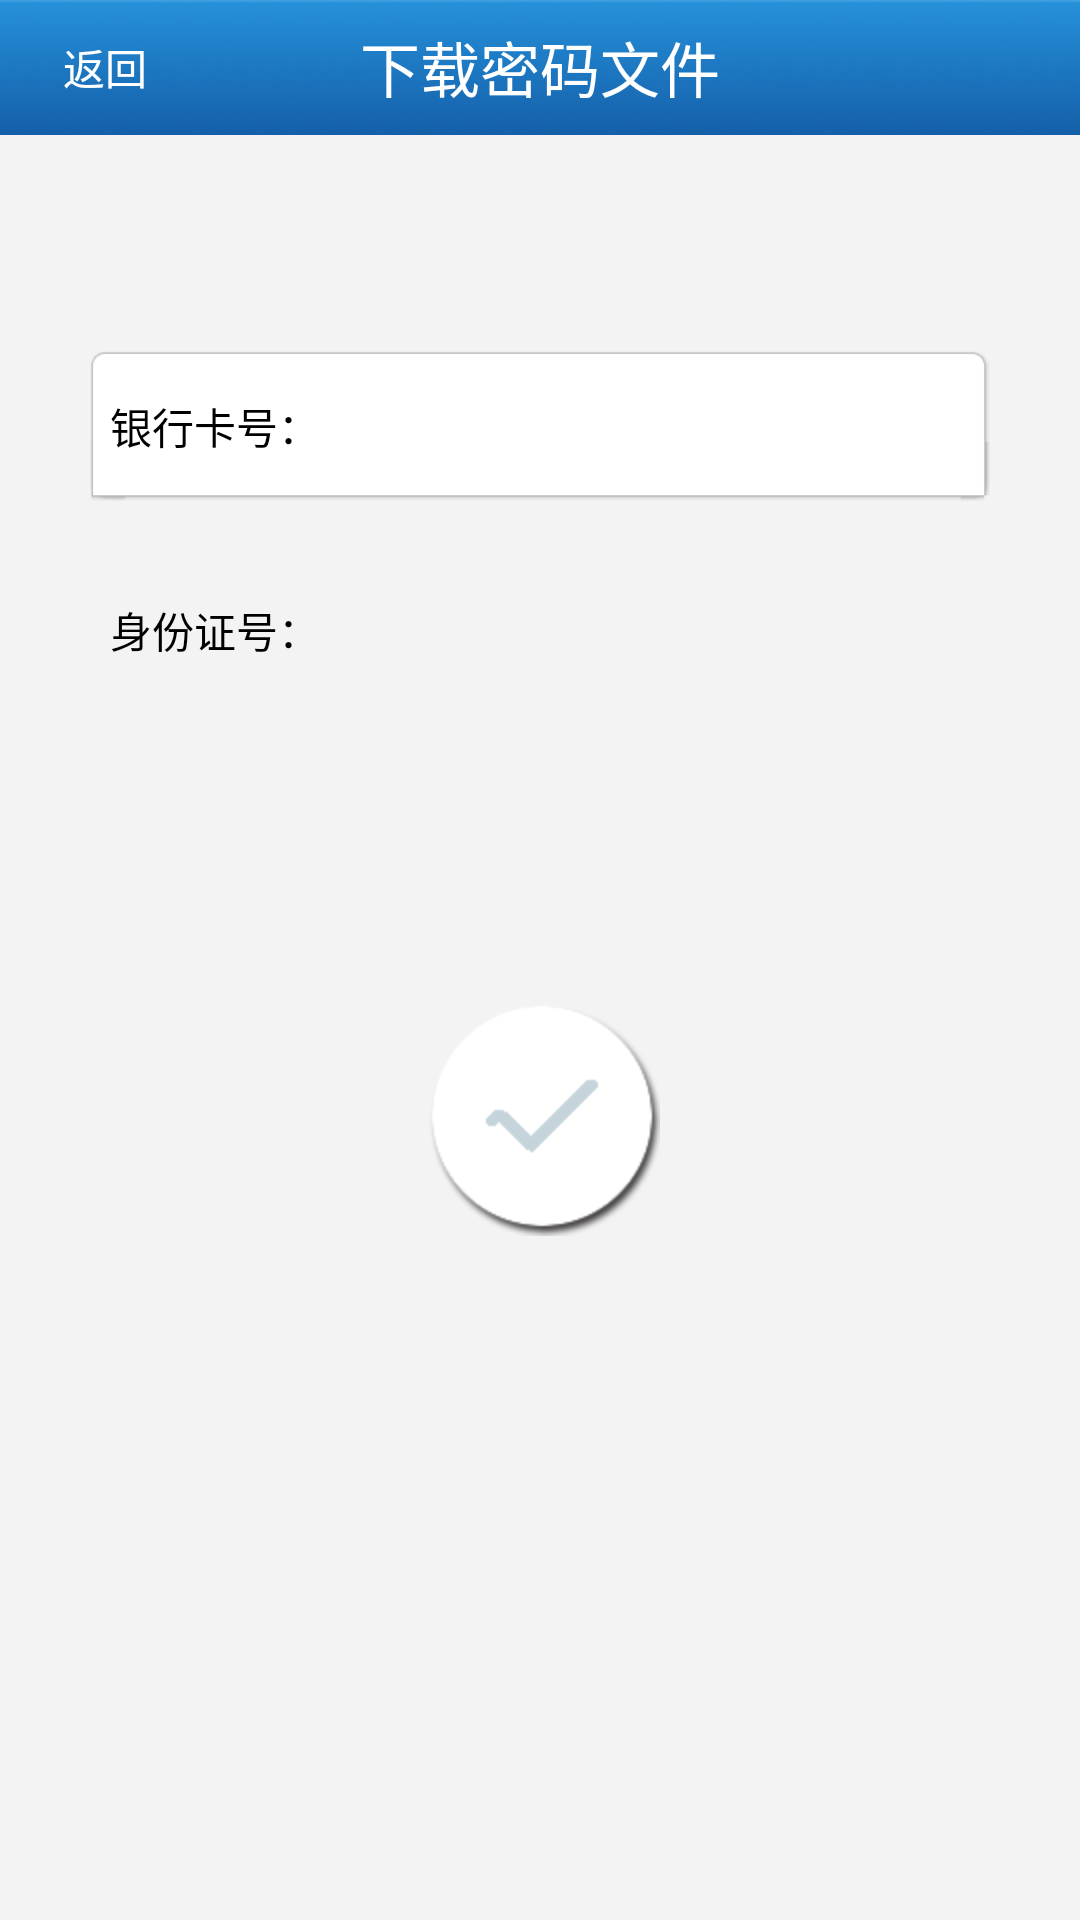

Icons on this 1080px×1920px Android screen, each with the point to tap as point (x, y):
tabs confirm: point (545, 1121)
